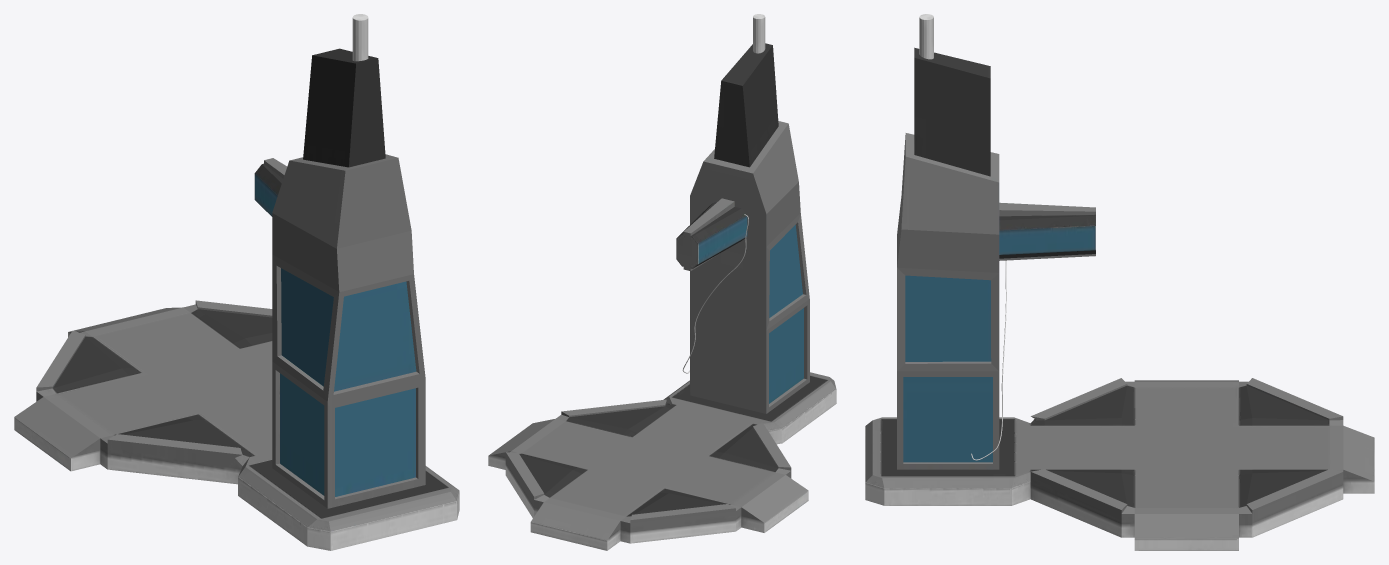
Rendered from low_poly_launch_pad.glb.
3 views of the same model, side by side, from view 1: azimuth 30°, elevation 25°; view 2: azimuth 150°, elevation 25°; view 3: azimuth 270°, elevation 25° (orthographic). The views are drawn at different scales.
Parts seen in each view (by area): view 1: Launch Pad__0; view 2: Launch Pad__0; view 3: Launch Pad__0.
Part boxes in pixels (x1,y1,x2,y2): Launch Pad__0: [14, 14, 459, 550]; Launch Pad__0: [488, 14, 836, 550]; Launch Pad__0: [865, 14, 1374, 550].
Size of the model in its own units: 23.27 by 31.08 by 31.57.
Materials: 1 (1 with a texture image).
